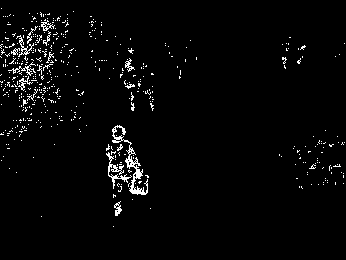person: (104, 124, 149, 217), (137, 64, 158, 113), (119, 58, 137, 112)
